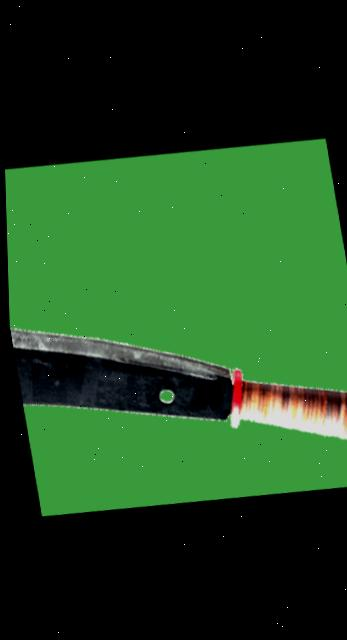long knife: (4, 159, 347, 515)
